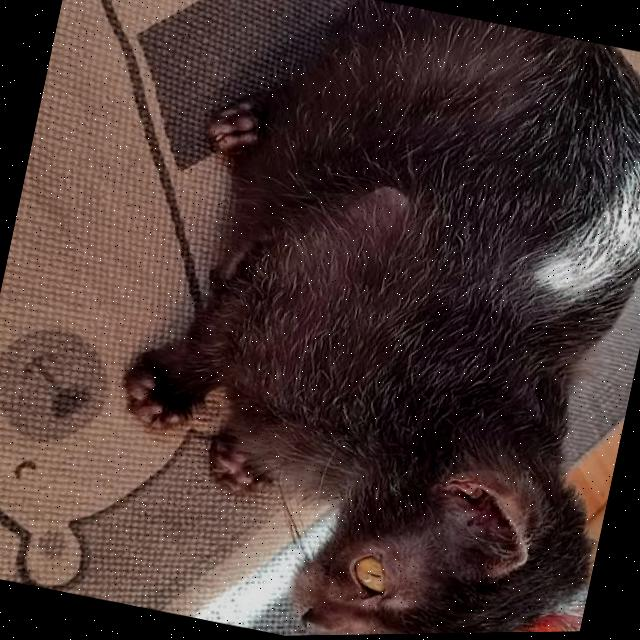Lykoi: (71, 0, 640, 639)
